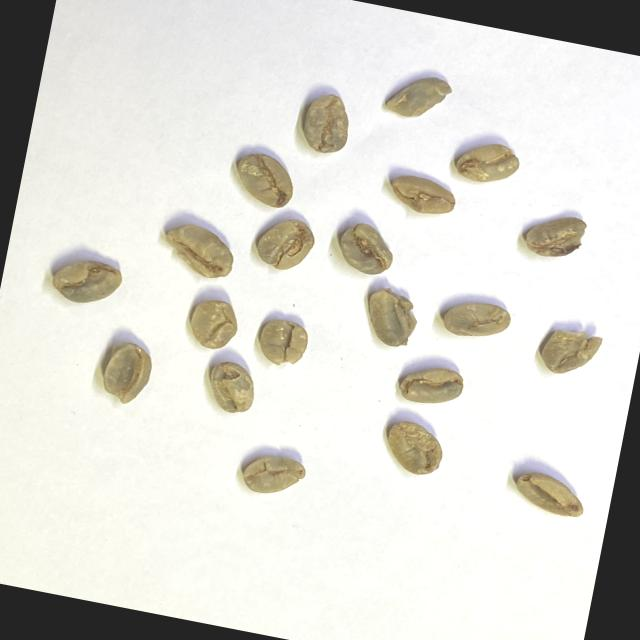bad: (159, 220, 240, 284), (48, 252, 126, 313), (228, 149, 300, 212), (510, 466, 591, 522), (358, 284, 424, 352), (252, 212, 320, 276), (379, 417, 448, 480), (297, 88, 357, 159), (332, 218, 400, 280), (536, 323, 606, 383), (383, 69, 455, 127), (98, 338, 156, 409), (522, 208, 590, 266), (439, 295, 514, 347), (453, 137, 523, 190), (240, 448, 308, 502), (184, 294, 243, 356), (396, 360, 466, 412), (386, 172, 460, 220), (204, 358, 261, 418), (254, 315, 312, 372)
